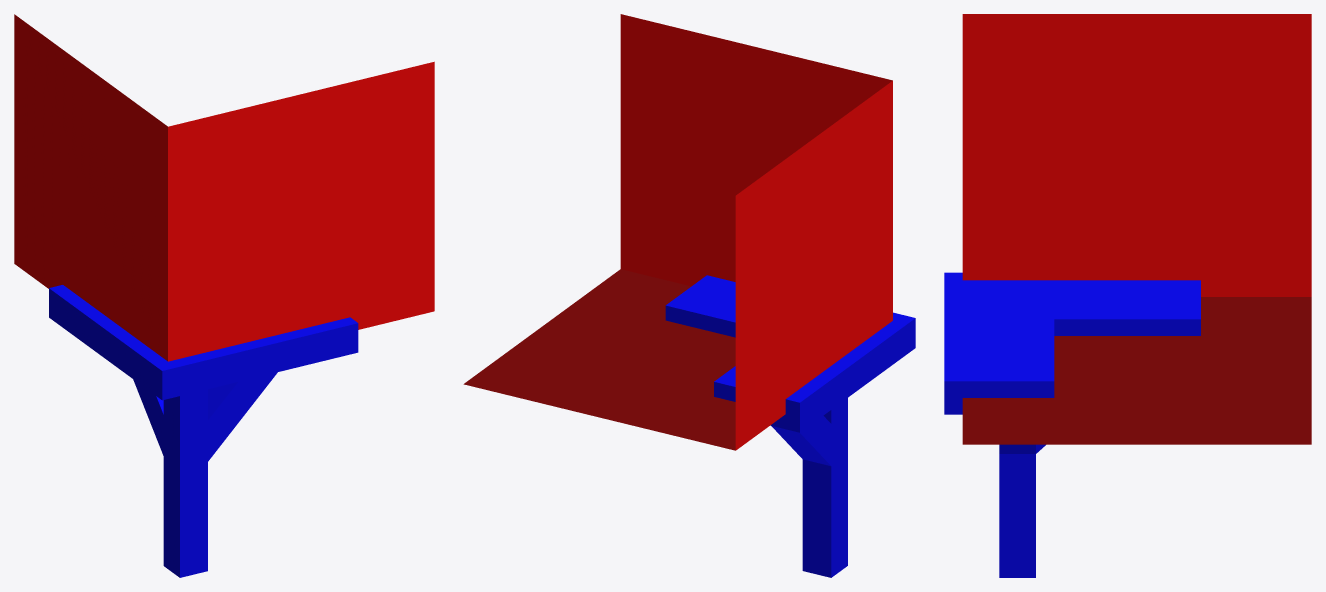
File: BigStrut_E_E_A_E_E_E_E_E_None.fbx
The picture shows the model from 3 angles, left to right: view 1: azimuth 30°, elevation 25°; view 2: azimuth 150°, elevation 25°; view 3: azimuth 270°, elevation 25°; orthographic projection. The views are drawn at different scales.
Parts seen in each view (by area): view 1: BigStrut_E_E_A_E_E_E_E_E_None; view 2: BigStrut_E_E_A_E_E_E_E_E_None; view 3: BigStrut_E_E_A_E_E_E_E_E_None.
Boxes of the visible parts, x1,y1,x2,y2 form: BigStrut_E_E_A_E_E_E_E_E_None: (14, 14, 434, 577); BigStrut_E_E_A_E_E_E_E_E_None: (463, 14, 915, 577); BigStrut_E_E_A_E_E_E_E_E_None: (944, 14, 1311, 577).
Bounding box in the file's own units: 62.5 × 100 × 62.5.
